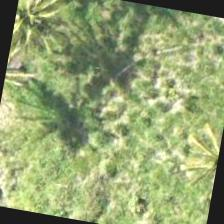Kelapa_Sawit: (7, 0, 73, 73)
